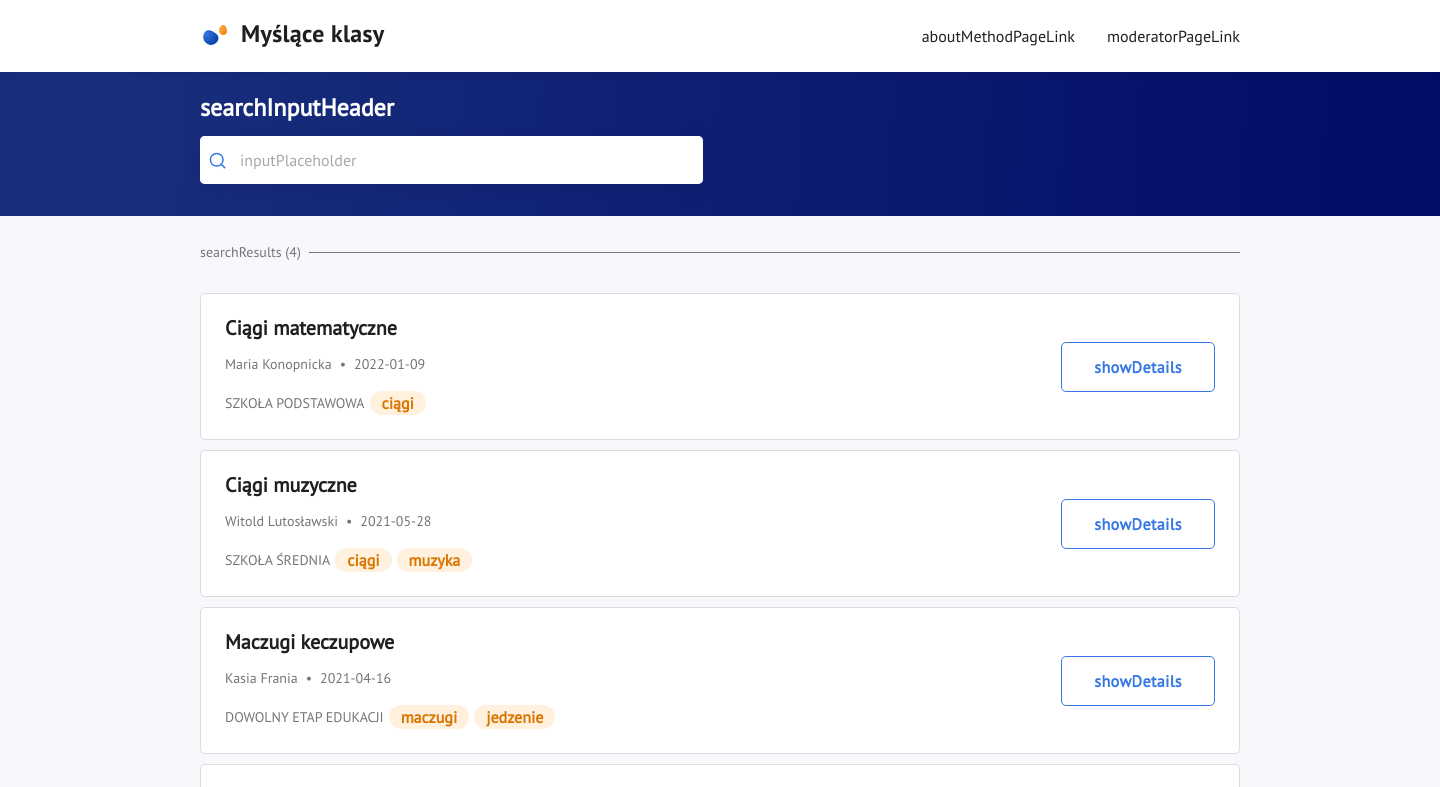
Test: <App /> › shows problem detailed page after clicking on suggestion title
Click the link "Ciągi matematyczne". click: [231, 328]
box: [225,315,397,341]
(page scrolled)
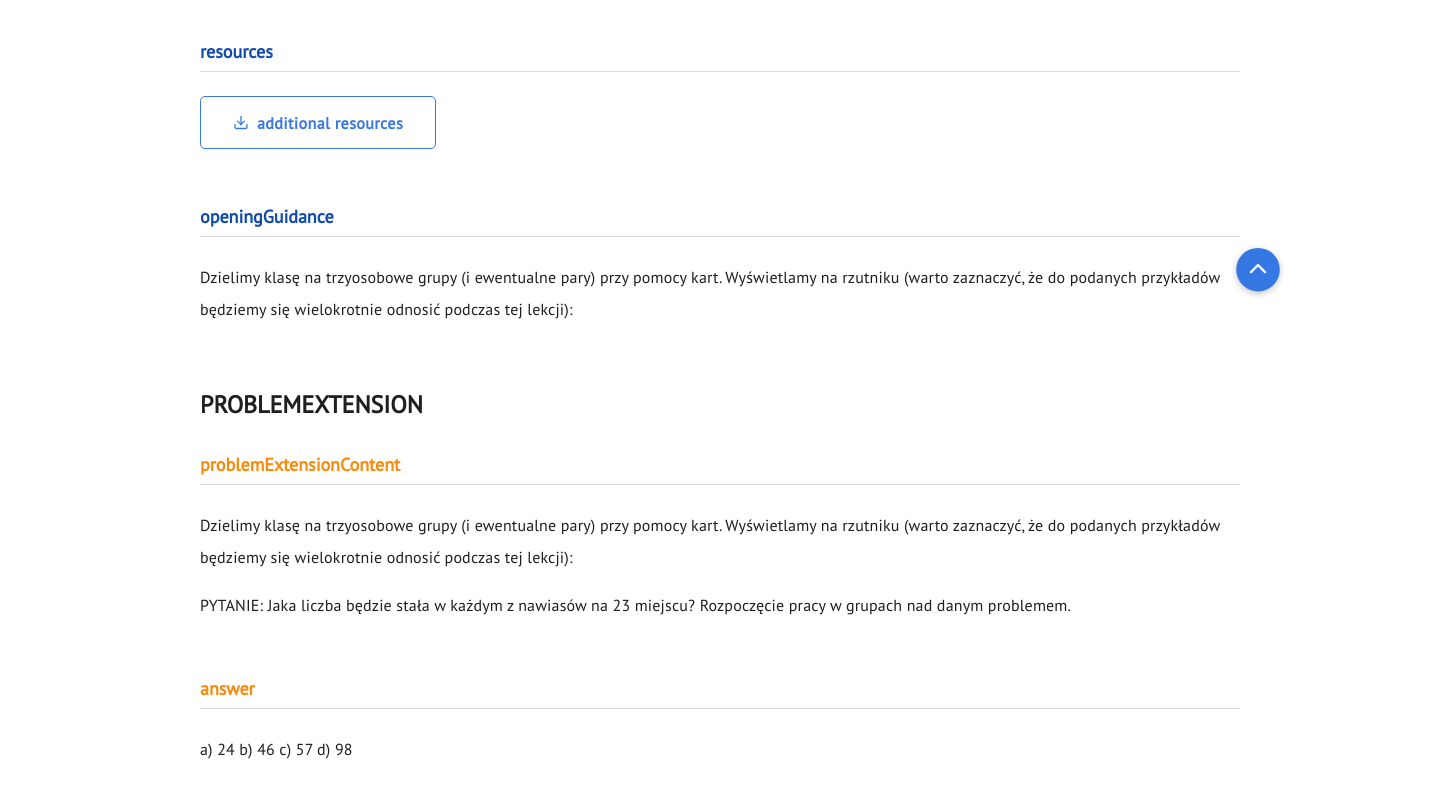
Expected: the heading "problemExtension" is shown, [200,389,423,420]
